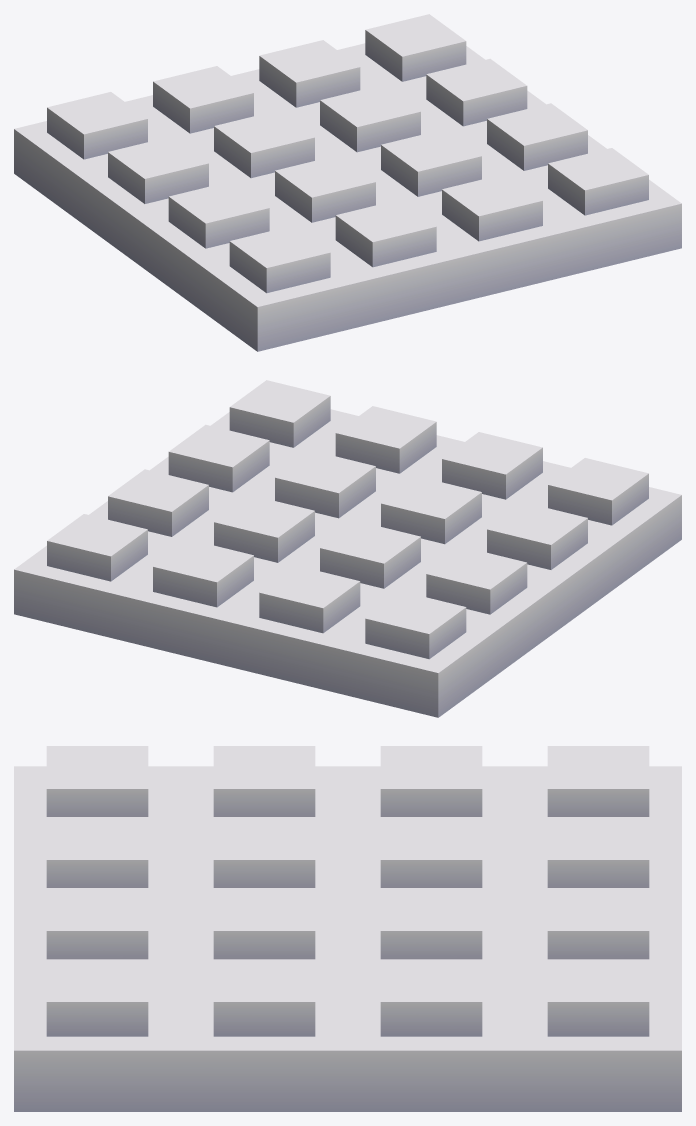
The model's file is kenney-brick-square-lq-plate-4-x-4.glb.
The picture shows the model from 3 angles, top to bottom: view 1: azimuth 30°, elevation 25°; view 2: azimuth 150°, elevation 25°; view 3: azimuth 270°, elevation 25°; orthographic projection. The views are drawn at different scales.
Visible parts, largest first — view 1: square-lq-plate-4x4; view 2: square-lq-plate-4x4; view 3: square-lq-plate-4x4.
Part boxes in pixels (box(x1,y1,x2,y2)): square-lq-plate-4x4: box(14, 14, 681, 351); square-lq-plate-4x4: box(14, 380, 681, 717); square-lq-plate-4x4: box(14, 746, 681, 1111).
Bounding box in the file's own units: 0.318 × 0.05 × 0.316.
Materials: 1 (1 with a texture image).
